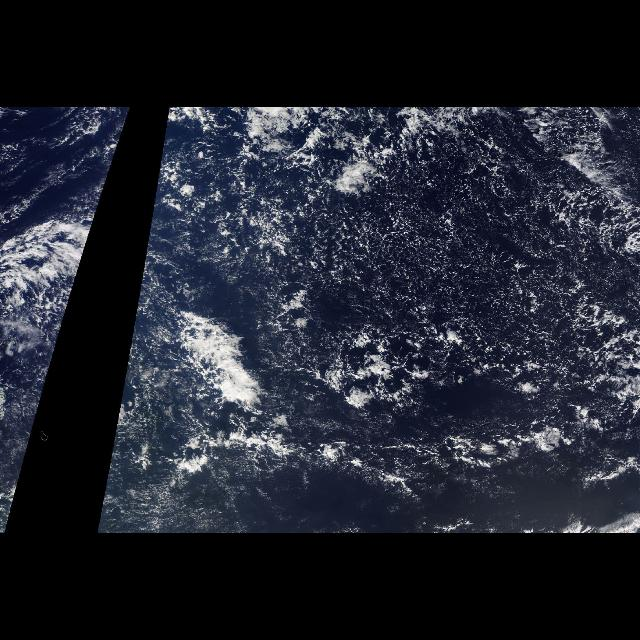Fish: (155, 307, 275, 421)
Gravel: (175, 108, 640, 474)
Sugar: (98, 476, 310, 532)
